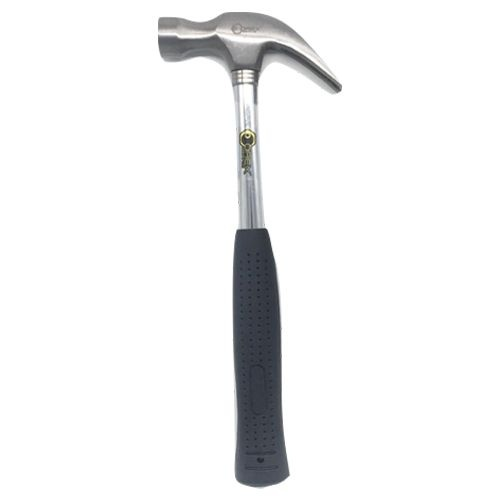hammer: (155, 8, 345, 490)
